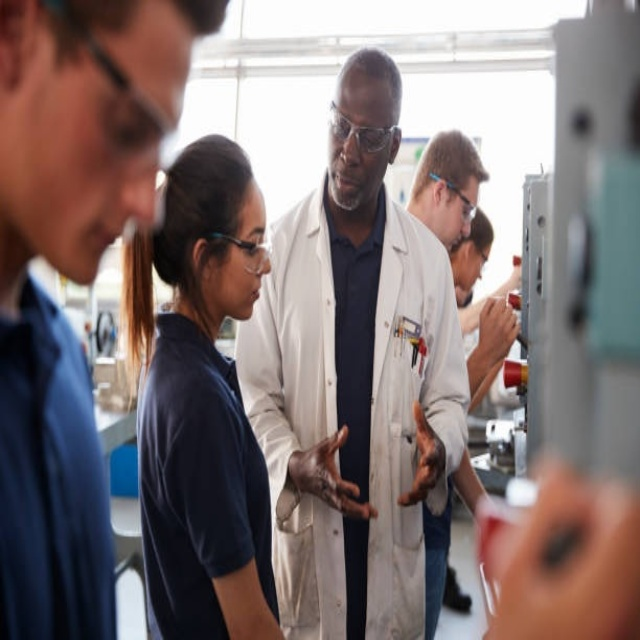Gafas: (55, 10, 185, 188), (331, 101, 398, 154), (205, 231, 273, 274), (429, 173, 477, 224), (474, 244, 490, 268)
Sin_guantes: (286, 423, 374, 521), (397, 396, 449, 509), (473, 294, 521, 376)
Sin_mascara: (68, 209, 136, 278), (232, 276, 266, 320), (333, 165, 358, 204), (448, 229, 467, 251)
